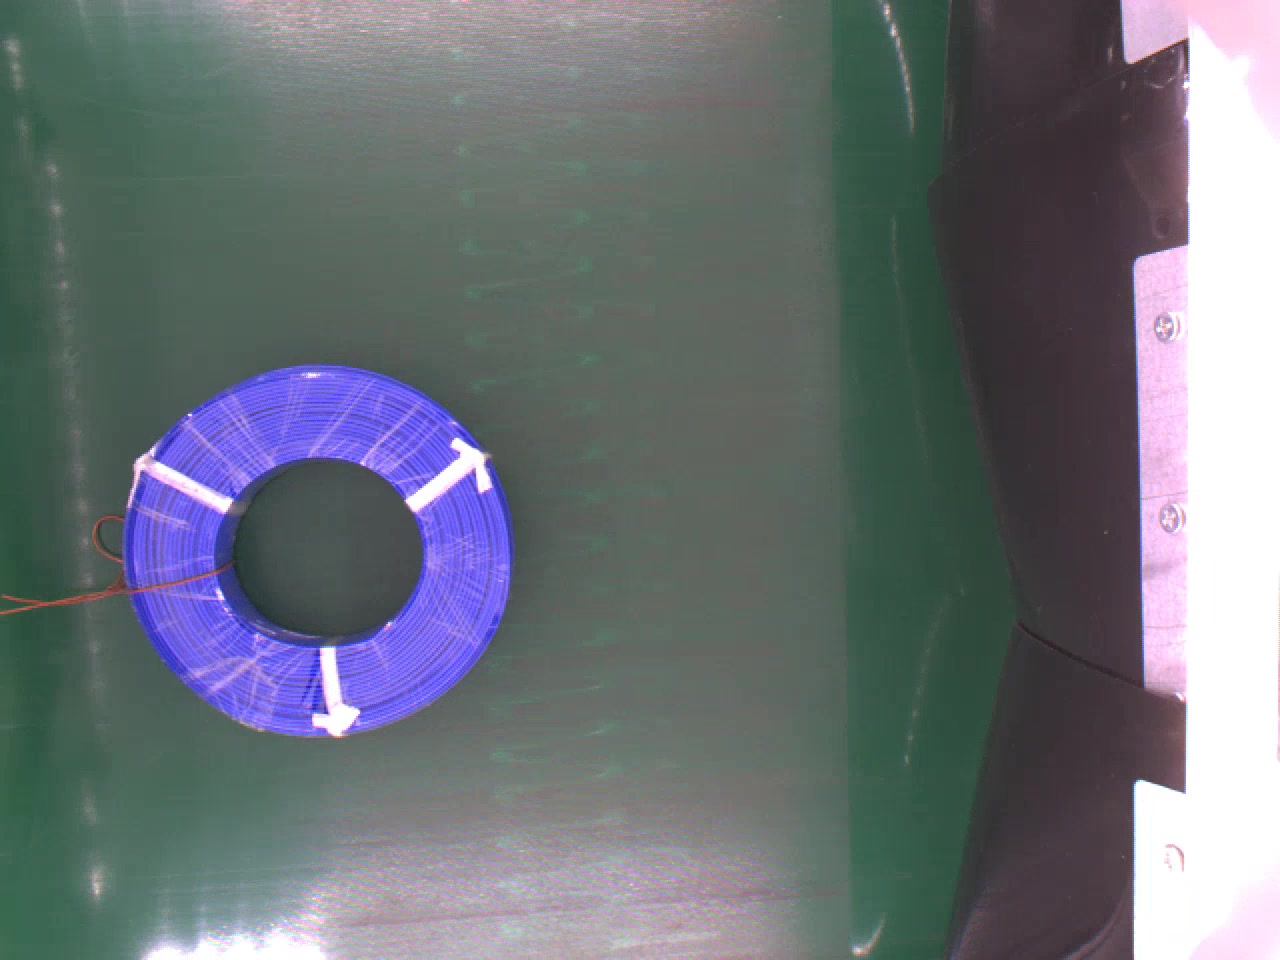blue: (127, 363, 519, 736)
